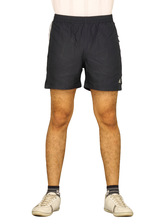clothoes: (47, 13, 129, 95)
shoes: (101, 191, 134, 219), (33, 189, 63, 217)
